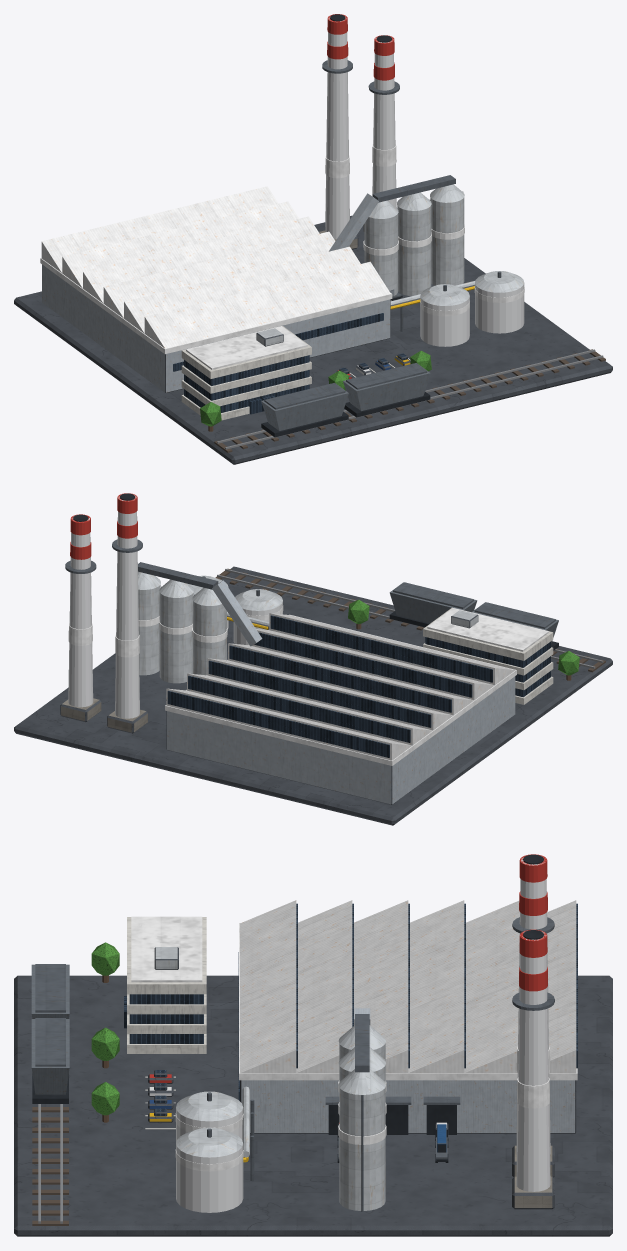
File: factory.gltf
3 views of the same model, one above another, from view 1: azimuth 30°, elevation 25°; view 2: azimuth 150°, elevation 25°; view 3: azimuth 270°, elevation 25° (orthographic). The views are drawn at different scales.
Parts seen in each view (by area): view 1: Factory; view 2: Factory; view 3: Factory.
Boxes of the visible parts, x1,y1,x2,y2 form: Factory: (14, 14, 612, 464); Factory: (14, 493, 612, 825); Factory: (14, 854, 612, 1236).
Bounding box in the file's own units: 0.98 × 0.582 × 0.98.
Materials: 23 (15 with a texture image).
